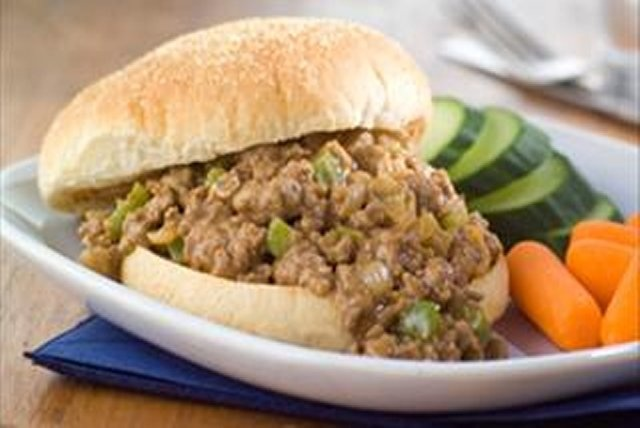background: (36, 9, 639, 241)
